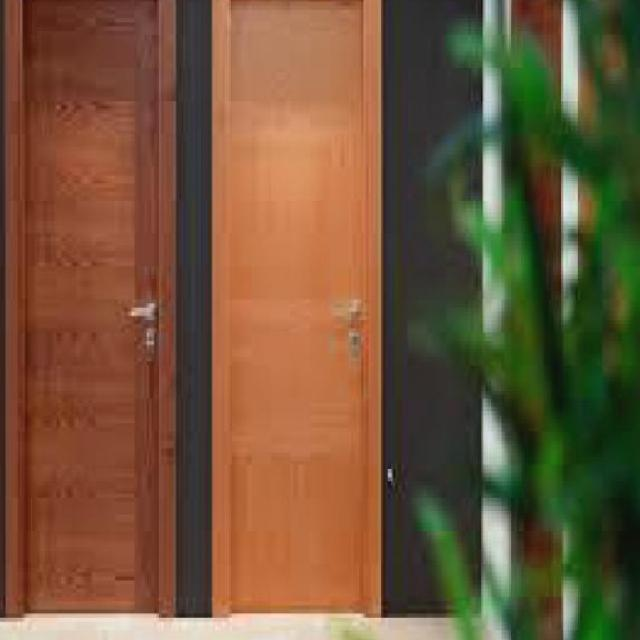Door: (201, 2, 398, 636), (2, 0, 180, 615)
